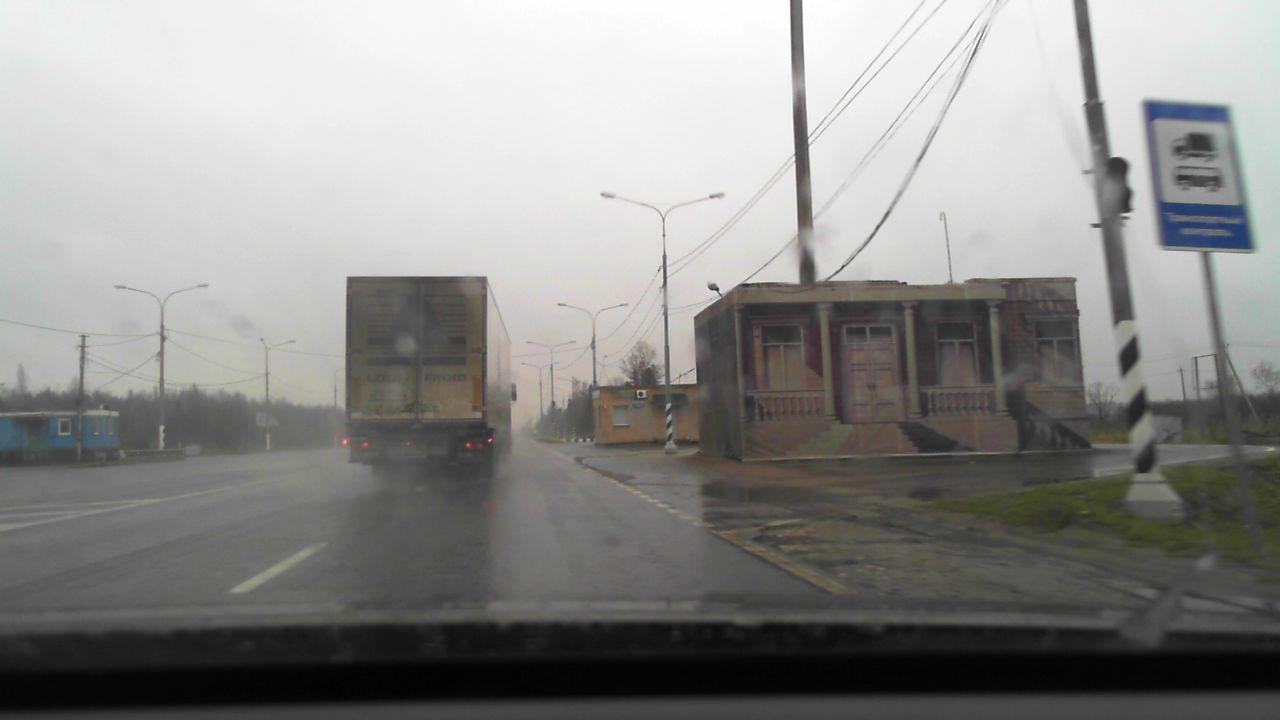7_14_2: (1143, 101, 1255, 252)
